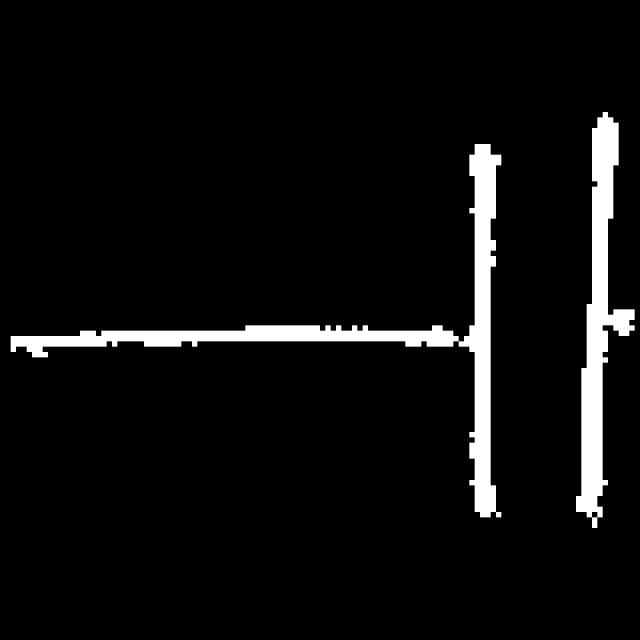capacitor: (458, 108, 620, 544)
